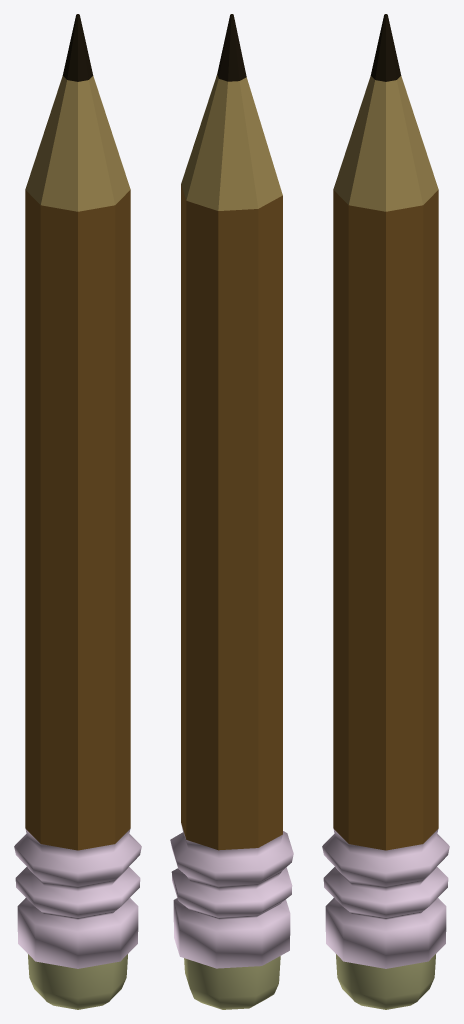
Rendered from Pencil.fbx.
The picture shows the model from 3 angles, left to right: view 1: azimuth 90°, elevation 25°; view 2: azimuth 210°, elevation 25°; view 3: azimuth 270°, elevation 25°; orthographic projection.
Parts seen in each view (by area): view 1: Cube, Cube.002, Cube.001; view 2: Cube, Cube.002, Cube.001; view 3: Cube, Cube.002, Cube.001.
Part boxes in pixels (x1,y1,x2,y2): Cube: (25,14,130,850); Cube.002: (14,828,141,968); Cube.001: (28,954,127,1009); Cube: (181,14,282,850); Cube.002: (170,825,293,968); Cube.001: (184,956,280,1009); Cube: (333,14,438,850); Cube.002: (322,828,449,968); Cube.001: (336,954,435,1009).
Size of the model in its own units: 243 by 2065 by 243.
